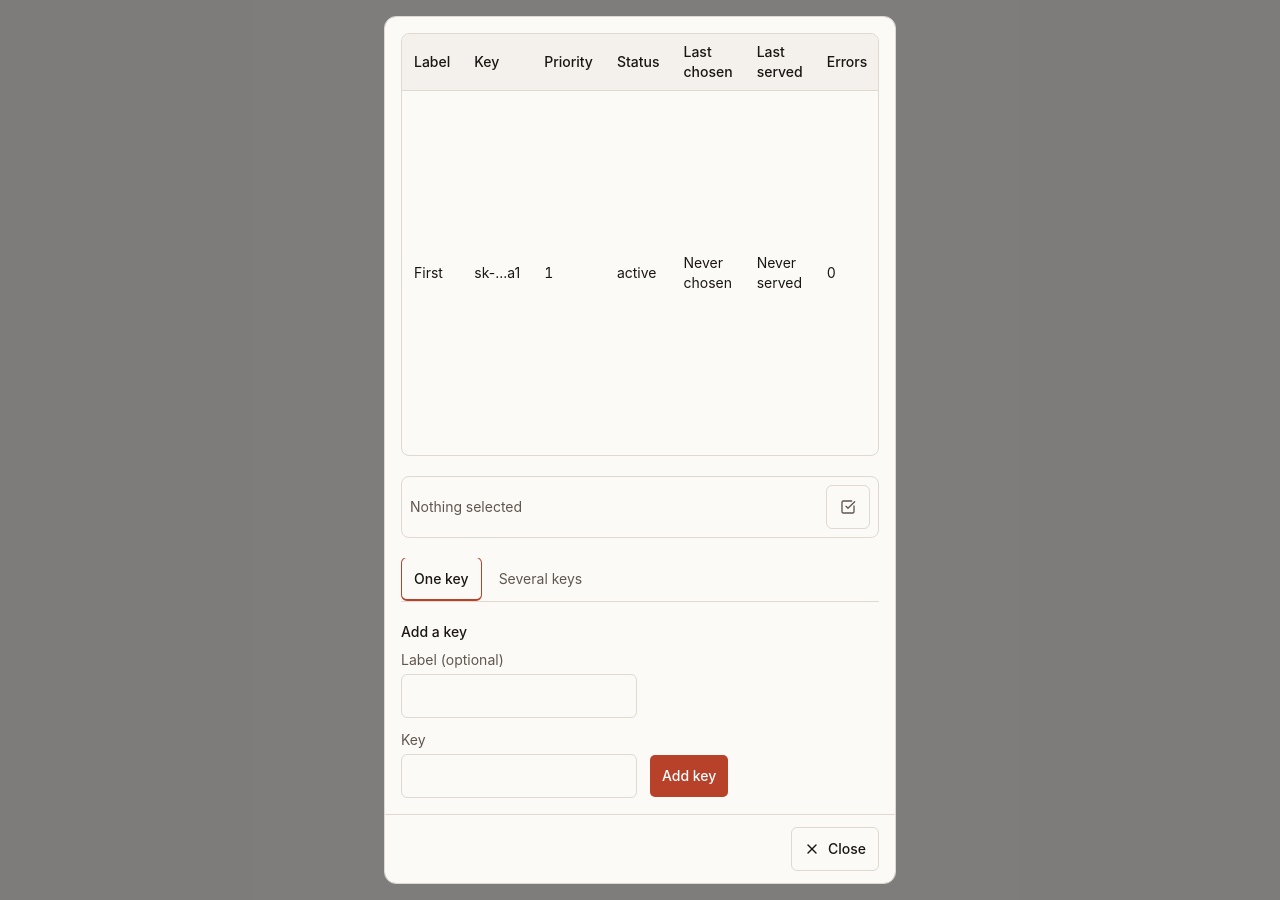
Test: endpoint detail drawer › offers both §6.2 add modes, and the repeatable row mode is one of them
(page scrolled)
expect the dialog is shown: met, box [384,16,896,884]
expect the tab "One key" is shown: met, box [401,558,482,601]
Click the tab "Several keys": (540, 579) [486,557,595,601]
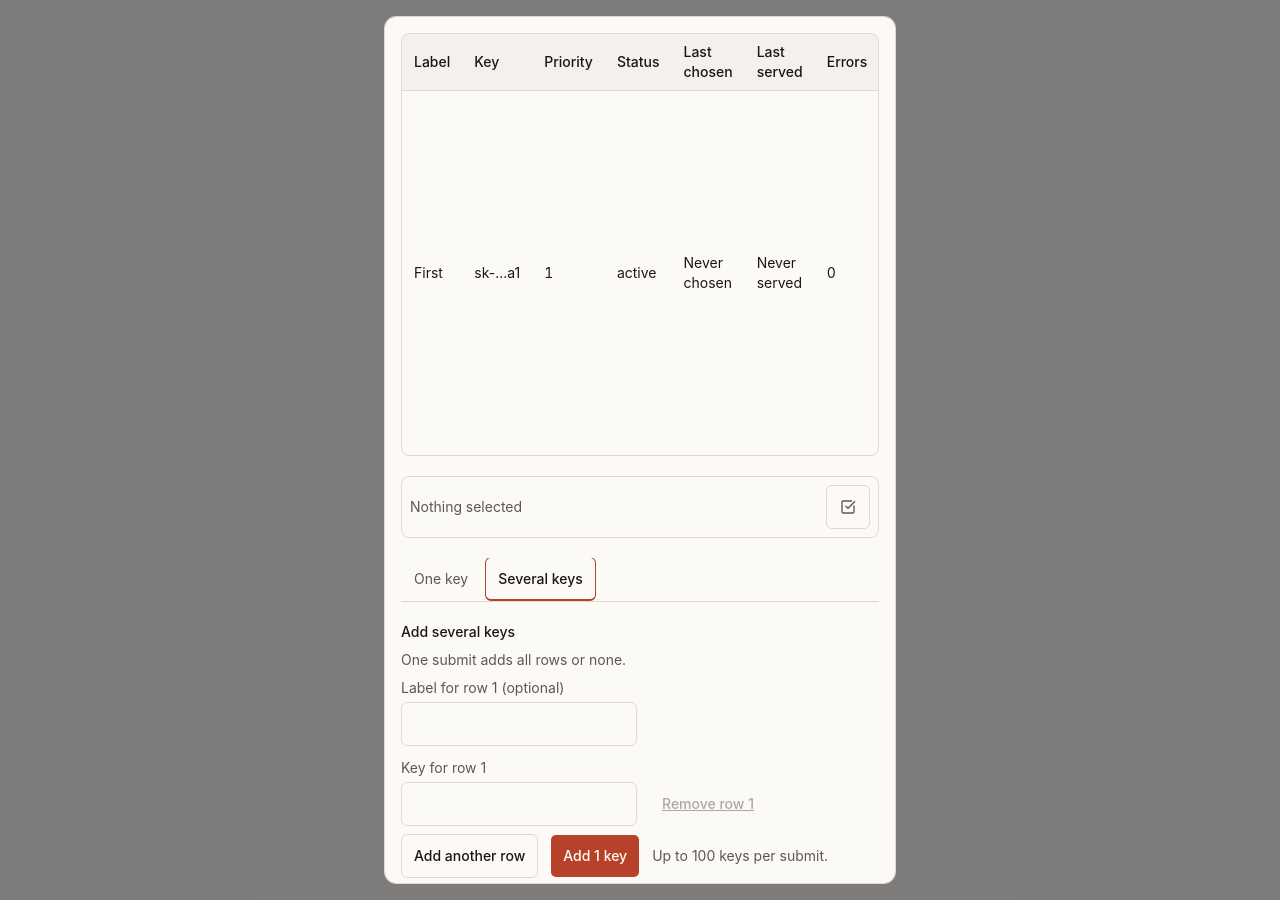
expect the text "Add several keys" is shown: met, box [401,623,515,640]
expect the button "Add another row" is shown: met, box [401,834,538,878]
